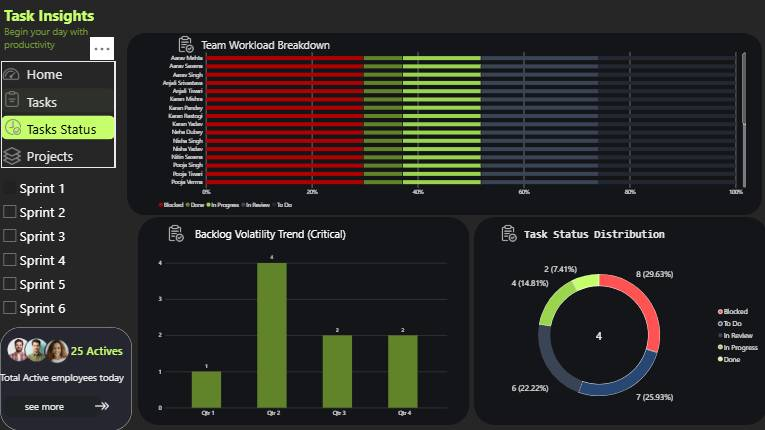

The page's visual inventory and layout, read from the dashboard file:
{"tool":"powerbi","page":{"name":"Tasks Status","canvas":[1920,1080],"ordinal":2},"visuals":[{"type":"shape","box":[0,820,330,260],"z":0},{"type":"shape","box":[345,545,822.5,520],"z":1000},{"type":"shape","box":[350,85,1570,455],"z":2000},{"type":"textbox","box":[10.8,15.1,345.6,140.4],"z":3000},{"type":"card","fields":{"Values":["_measures.active_employees_label"]},"box":[155.6,848,174.4,67.9],"z":3000,"group":"g2"},{"type":"group","id":"g1","title":"Group 1","box":[2.5,155,287.5,267.5],"z":4000},{"type":"pageNavigator","box":[2.5,155,286.1,267.4],"z":5000,"group":"g1"},{"type":"slicer","fields":{"Values":["Tasks.Sprint"]},"box":[0,440,285,380],"z":5000},{"type":"textbox","box":[0,930.1,318.4,40.5],"z":5000,"group":"g2"},{"type":"hundredPercentStackedBarChart","fields":{"Category":["Employees.FullName"],"Series":["Tasks.Status"],"Y":["_measures.Total Tasks"]},"box":[380,156,1360,364],"z":6000},{"type":"image","box":[5.2,165.7,45.5,45.5],"z":6000,"group":"g1"},{"type":"shape","box":[7.5,992.7,246.6,52.8],"z":6000,"group":"g2"},{"type":"image","box":[8.7,368.9,45,45],"z":7000,"group":"g1"},{"type":"shape","box":[1185,544.4,735,520],"z":7000},{"type":"image","box":[232.8,1000.4,44.8,35.2],"z":7000,"group":"g2"},{"type":"image","box":[10.5,297.6,45,45],"z":8000,"group":"g1"},{"type":"textbox","box":[1222.5,560,595,70],"z":8000},{"type":"image","box":[7,226.3,45,45],"z":9000,"group":"g1"},{"type":"clusteredColumnChart","fields":{"Category":["Tasks.DueDate.Variation.Date Hierarchy.Year","Tasks.DueDate.Variation.Date Hierarchy.Quarter","Tasks.DueDate.Variation.Date Hierarchy.Month","Tasks.DueDate.Variation.Date Hierarchy.Day"],"Y":["_measures.Critical Task"]},"box":[380,630,755,417.5],"z":9000},{"type":"textbox","box":[367.5,560,652.5,70],"z":10000},{"type":"donutChart","fields":{"Category":["Tasks.Status"],"Y":["_measures.Total Tasks"]},"box":[1185,630,735,435],"z":11000},{"type":"textbox","box":[380,95,755,70],"z":12000},{"type":"group","id":"g2","title":"Group 6","box":[0,848,330,198],"z":13000},{"type":"image","box":[5,825,177.2,102],"z":14000}]}

Visuals, with their boxes on the page's 1920x1080 design canvas (x1, y1, x2, y2). These are canvas units, not pixel positions in the 765x430 screenshot, which may show the page scaled, cropped or inside an application window:
shape: detection(0, 820, 330, 1080)
shape: detection(345, 545, 1168, 1065)
shape: detection(350, 85, 1920, 540)
textbox: detection(11, 15, 356, 156)
card - _measures.active_employees_label: detection(156, 848, 330, 916)
"Group 1" group: detection(2, 155, 290, 422)
pageNavigator: detection(2, 155, 289, 422)
slicer - Tasks.Sprint: detection(0, 440, 285, 820)
textbox: detection(0, 930, 318, 971)
hundredPercentStackedBarChart - Employees.FullName x Tasks.Status: detection(380, 156, 1740, 520)
image: detection(5, 166, 51, 211)
shape: detection(8, 993, 254, 1046)
image: detection(9, 369, 54, 414)
shape: detection(1185, 544, 1920, 1064)
image: detection(233, 1000, 278, 1036)
image: detection(10, 298, 56, 343)
textbox: detection(1222, 560, 1818, 630)
image: detection(7, 226, 52, 271)
clusteredColumnChart - Tasks.DueDate.Variation.Date Hierarchy.Year x Tasks.DueDate.Variation.Date Hierarchy.Quarter: detection(380, 630, 1135, 1048)
textbox: detection(368, 560, 1020, 630)
donutChart - Tasks.Status x _measures.Total Tasks: detection(1185, 630, 1920, 1065)
textbox: detection(380, 95, 1135, 165)
"Group 6" group: detection(0, 848, 330, 1046)
image: detection(5, 825, 182, 927)
